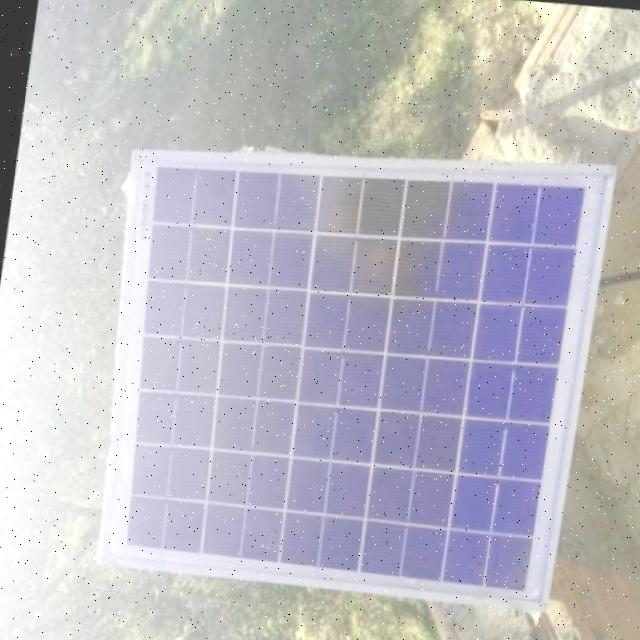Normal Solar Panel: (74, 122, 610, 622)
